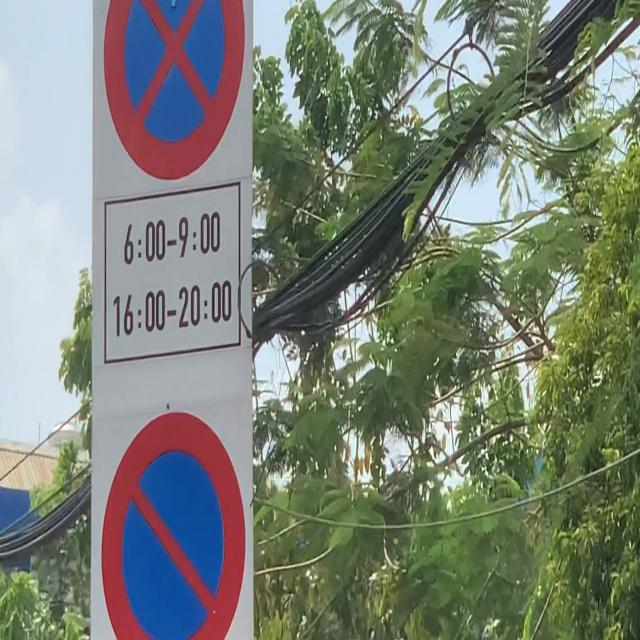Cam do: (100, 408, 248, 640)
Cam dung va do: (101, 0, 245, 181)
